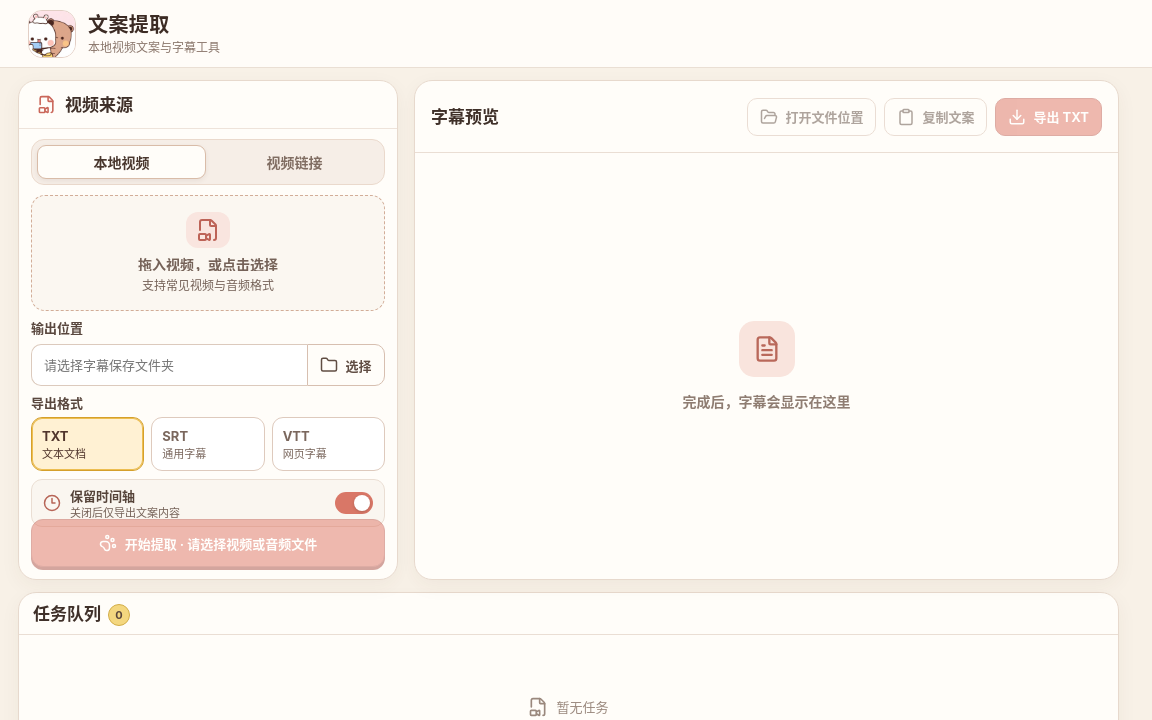
App › rejects video URLs containing credentials
The image size is (1152, 720).
Expected: the text "暂无任务" is shown, x1=556 y1=697 x2=608 y2=716
Click the button "视频链接" at (294,162), box x1=210 y1=145 x2=379 y2=179
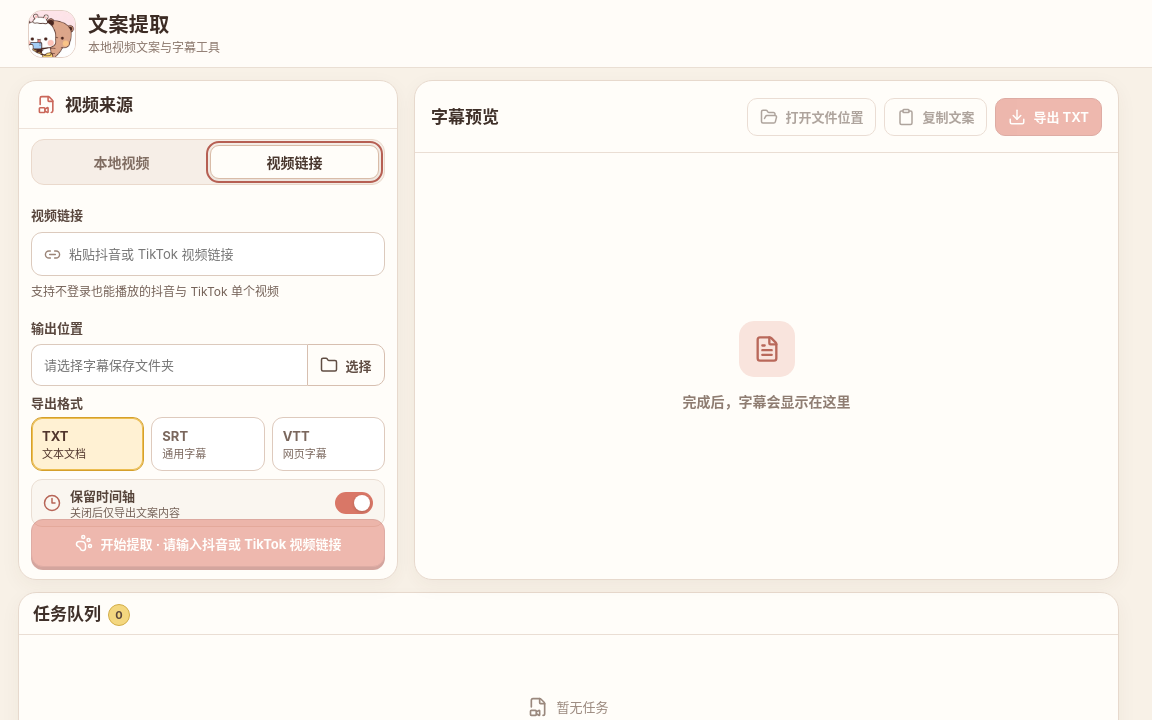
Type "https://user:pass@www.tiktok.com/@creator/video/1" into the field labelled "视频链接" at (220,254), box x1=69 y1=233 x2=372 y2=275
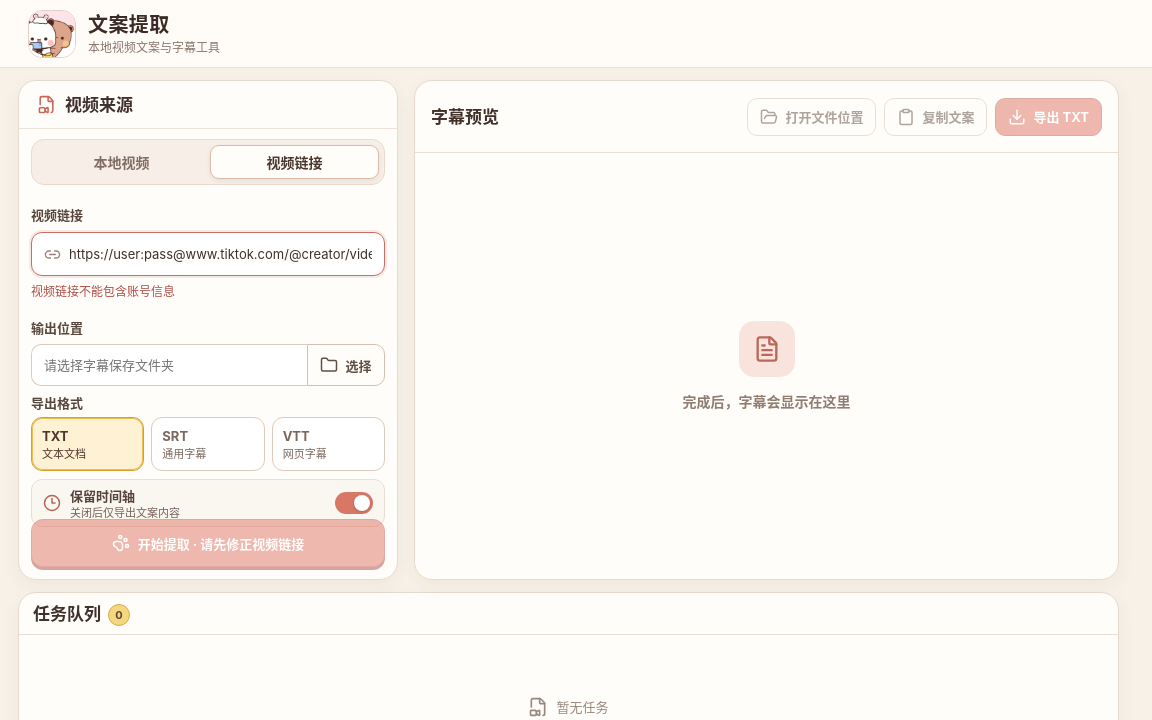
Expected: the button "开始提取 · 请先修正视频链接" is disabled, x1=31 y1=519 x2=385 y2=567
Now the text "视频链接不能包含账号信息" is shown, box x1=31 y1=284 x2=175 y2=299
